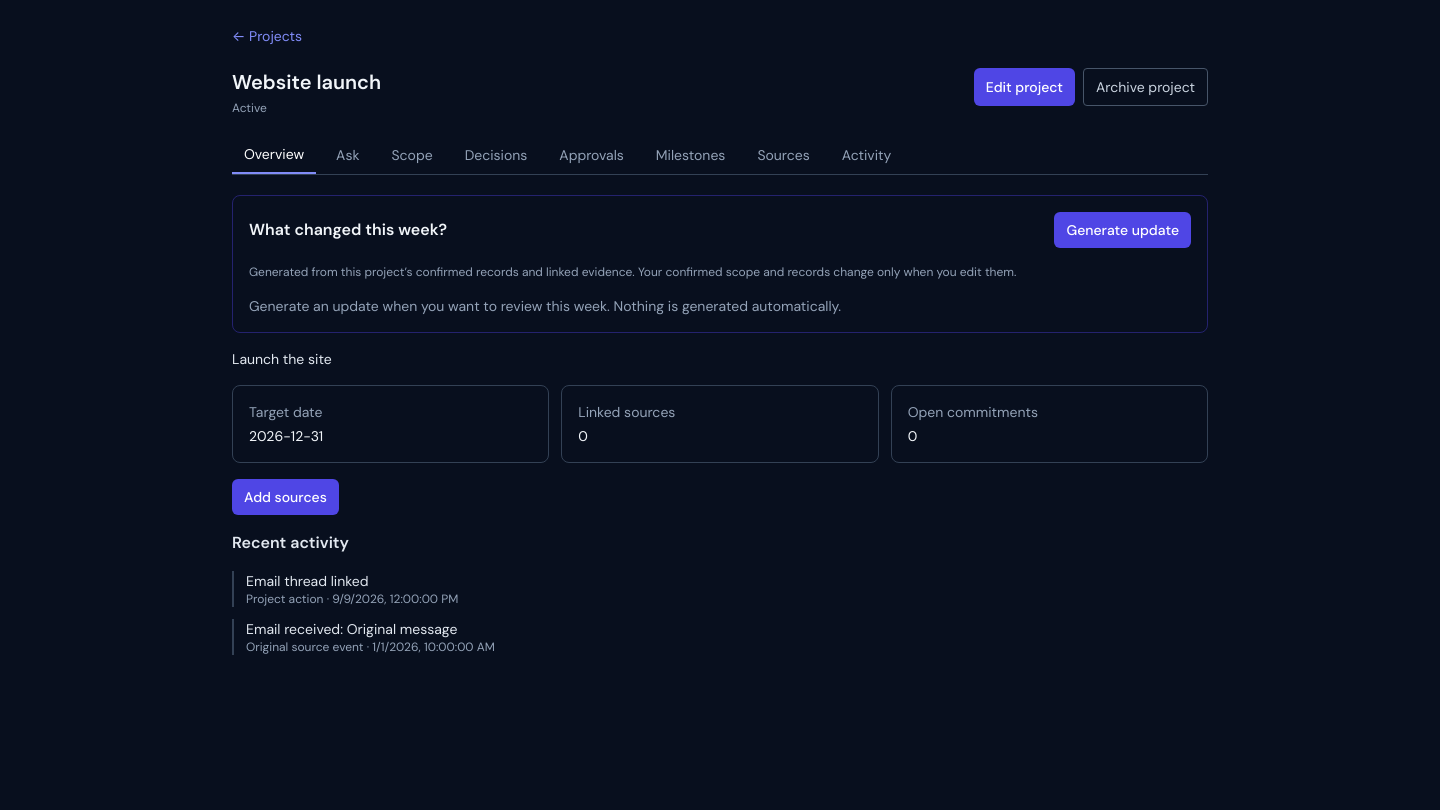
Scenario: links a whole email thread through the picker and prevents duplicate clicks
This screenshot has width=1440, height=810.
Click the button "Add sources" at (285, 497), box [232, 479, 339, 515]
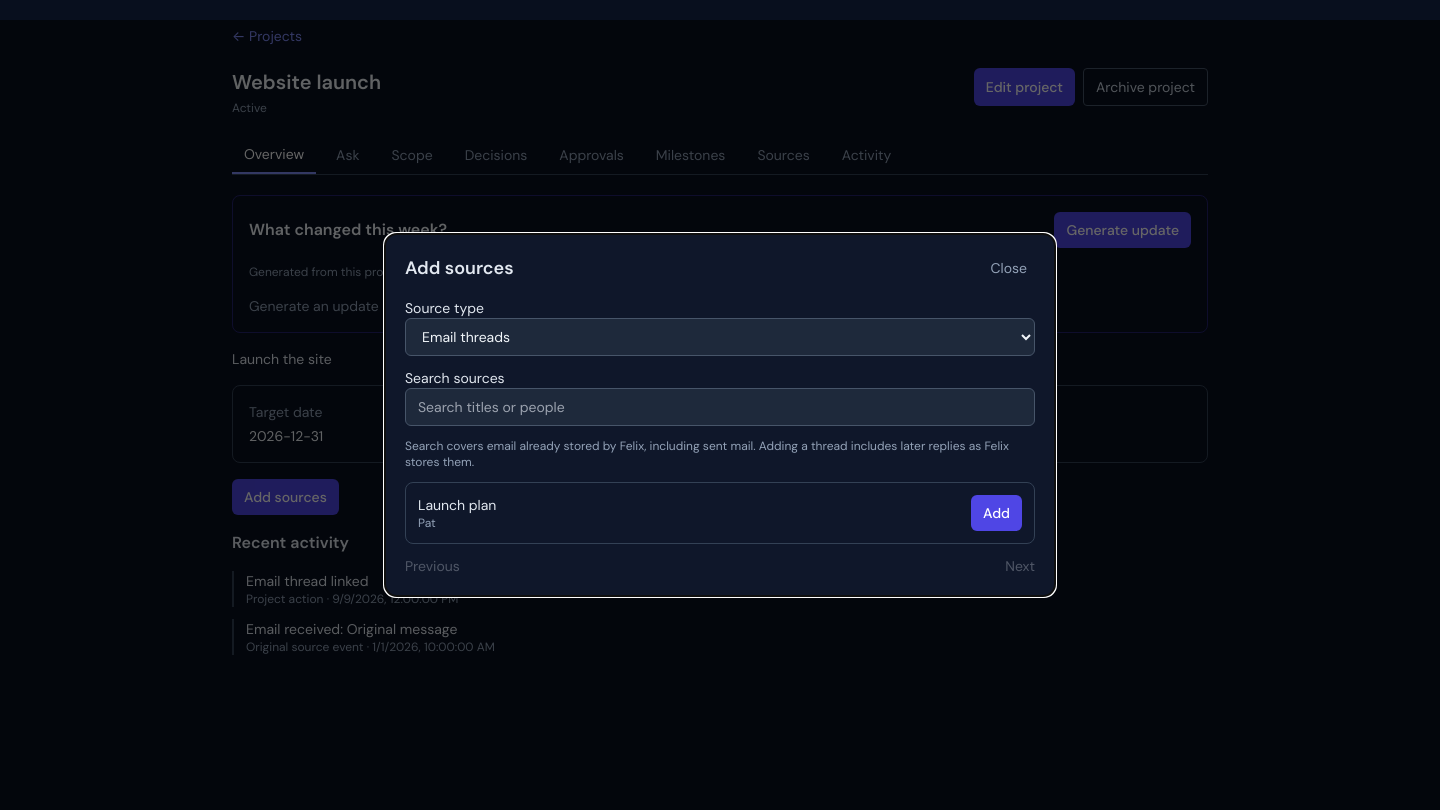
Expected: the text "email already stored by Felix" is shown, [405, 438, 1009, 470]
Click the button "Add" at (997, 513), box [971, 495, 1022, 531]
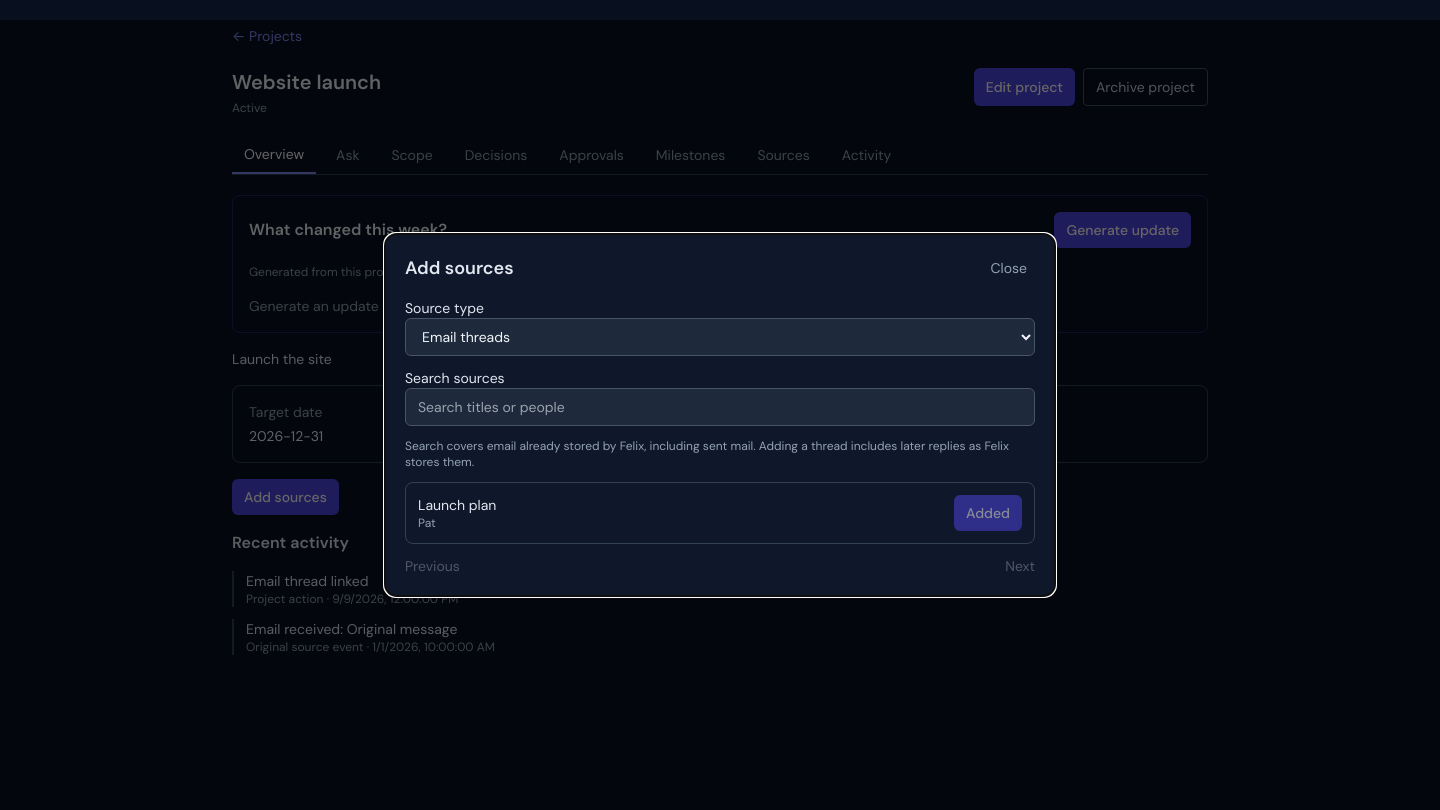
Expected: the button "Added" is disabled, [954, 495, 1022, 531]
Click the button "Close" at (1009, 268), box [982, 254, 1035, 282]
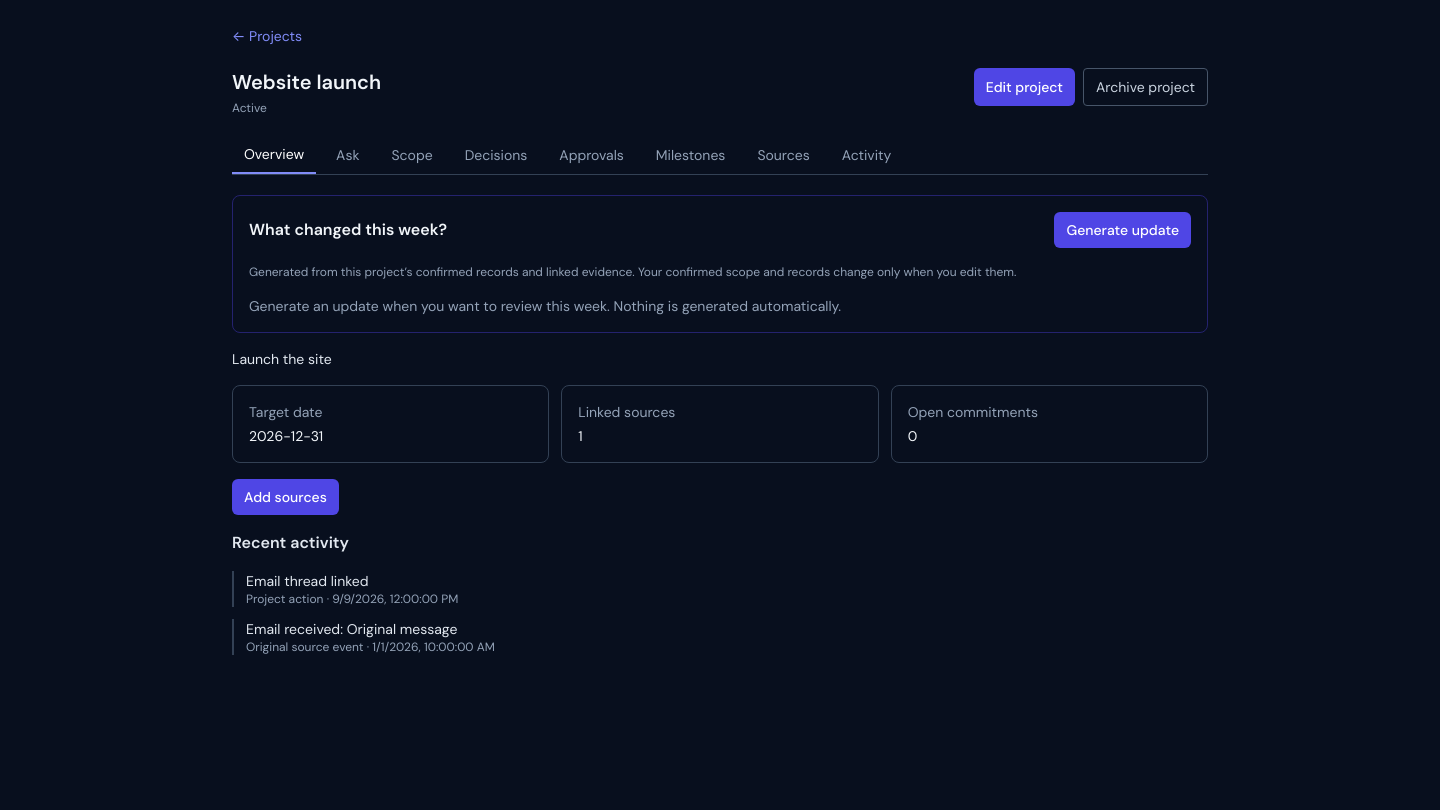
Click the tab "Sources" at (784, 155), box [745, 136, 822, 174]
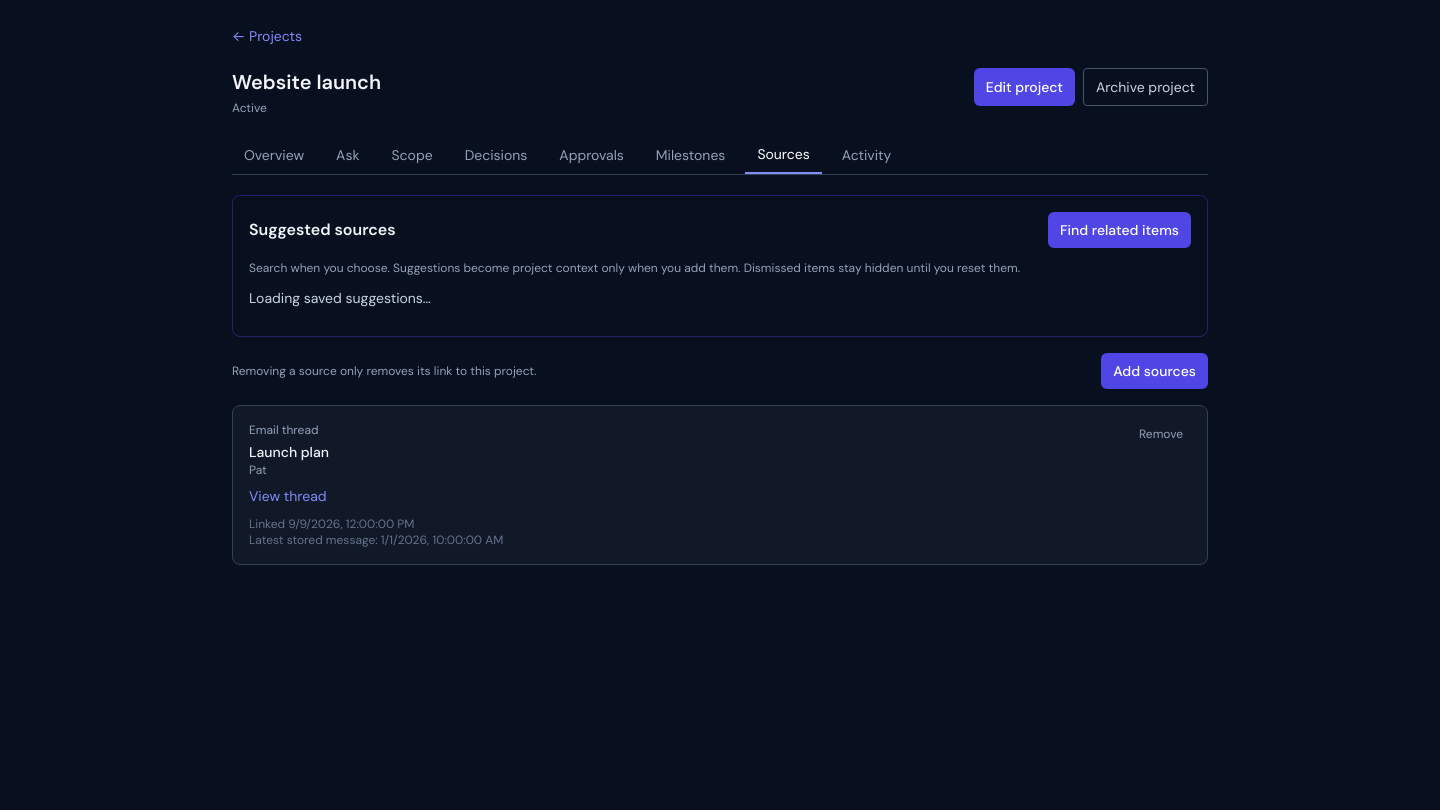
Click the button "View thread" at (288, 496), box [249, 486, 327, 506]
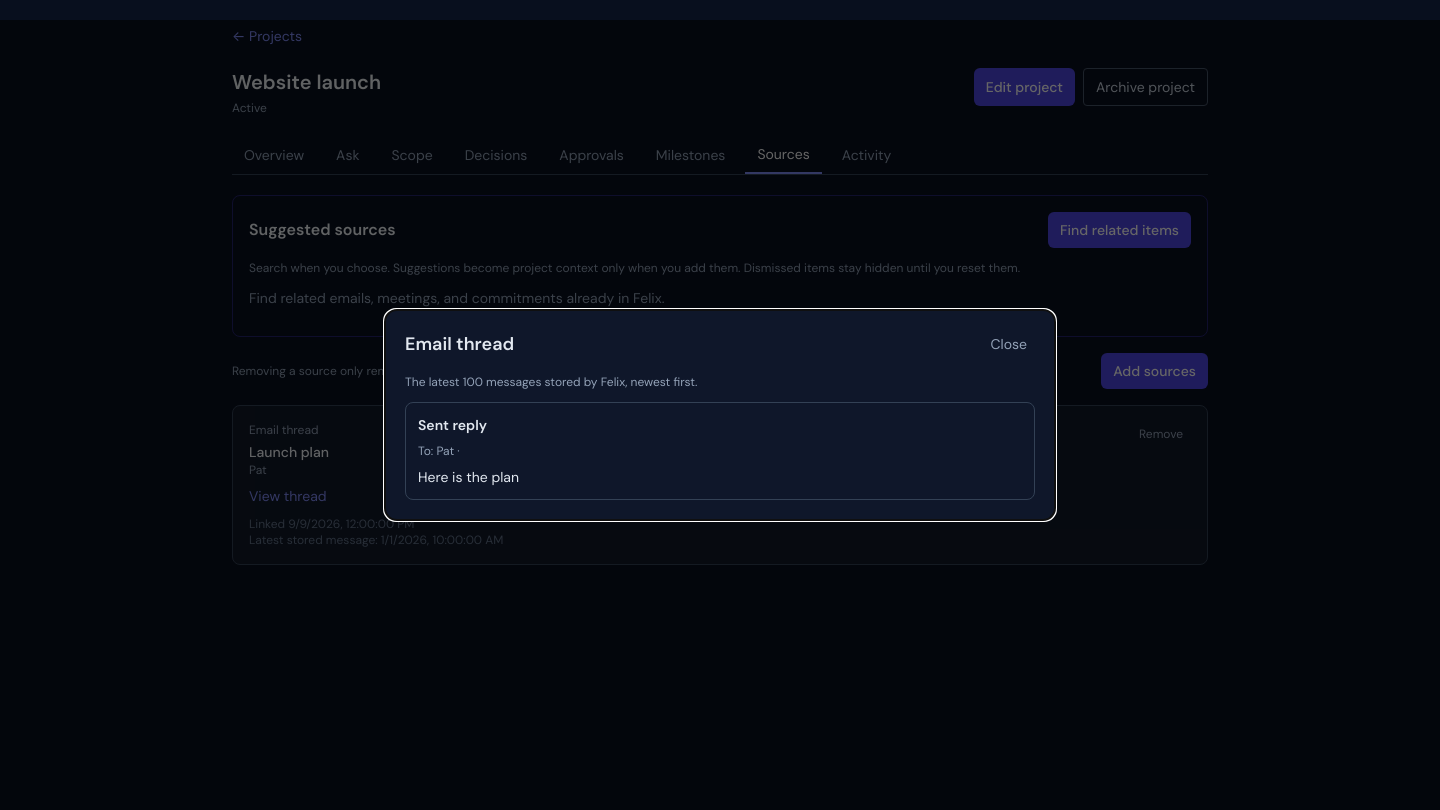
Expected: the text "Here is the plan" is shown, [418, 468, 519, 486]
